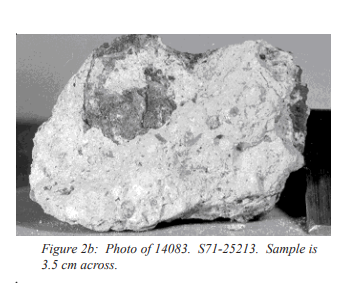Breccia: (14, 32, 310, 226), (100, 69, 294, 204)
